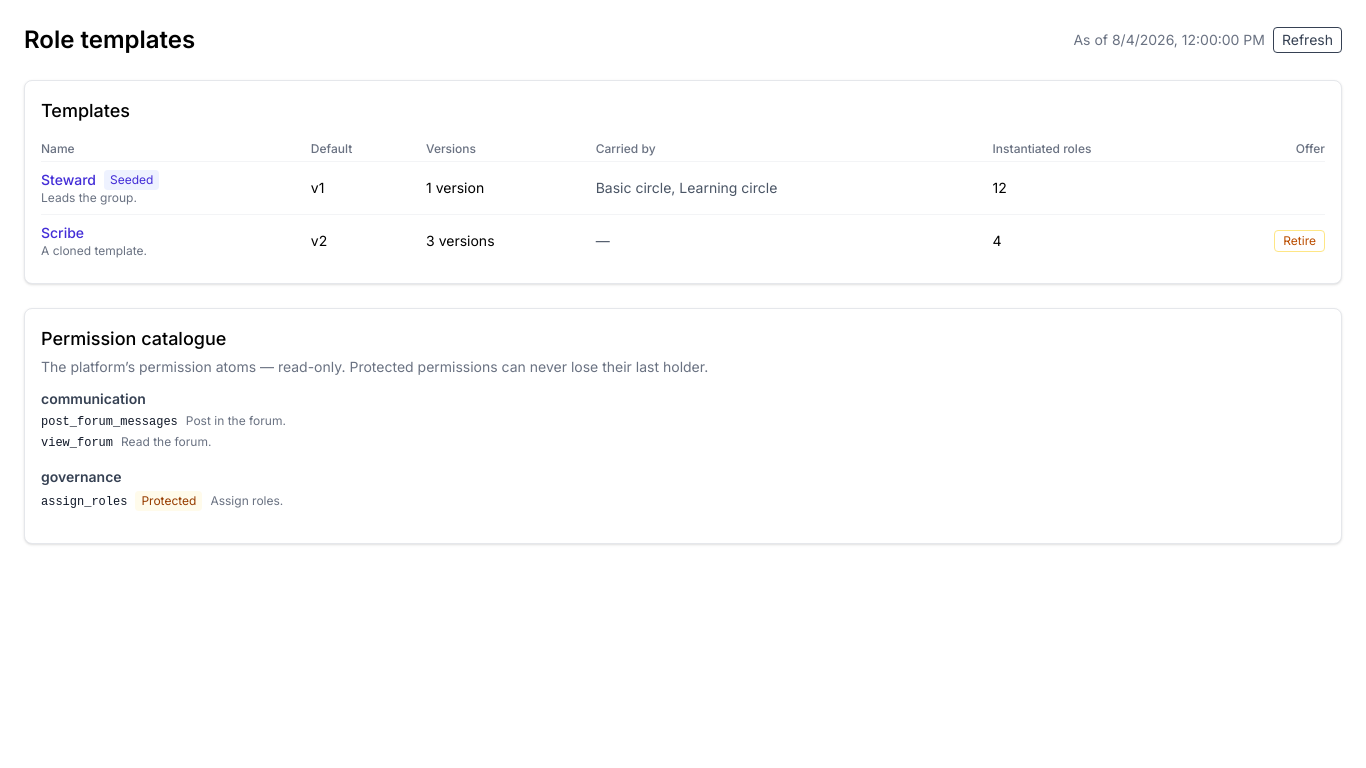
Test: AdminRolesView — retired collapse (FEAT-H045 STORY-1) › moves a template between the sections on a fresh read, with no manual refresh
expect the link "Steward" is shown: met, box top-left (41, 170), bottom-right (96, 190)
Click the button "Refresh": (1308, 40) top-left (1273, 27), bottom-right (1342, 53)
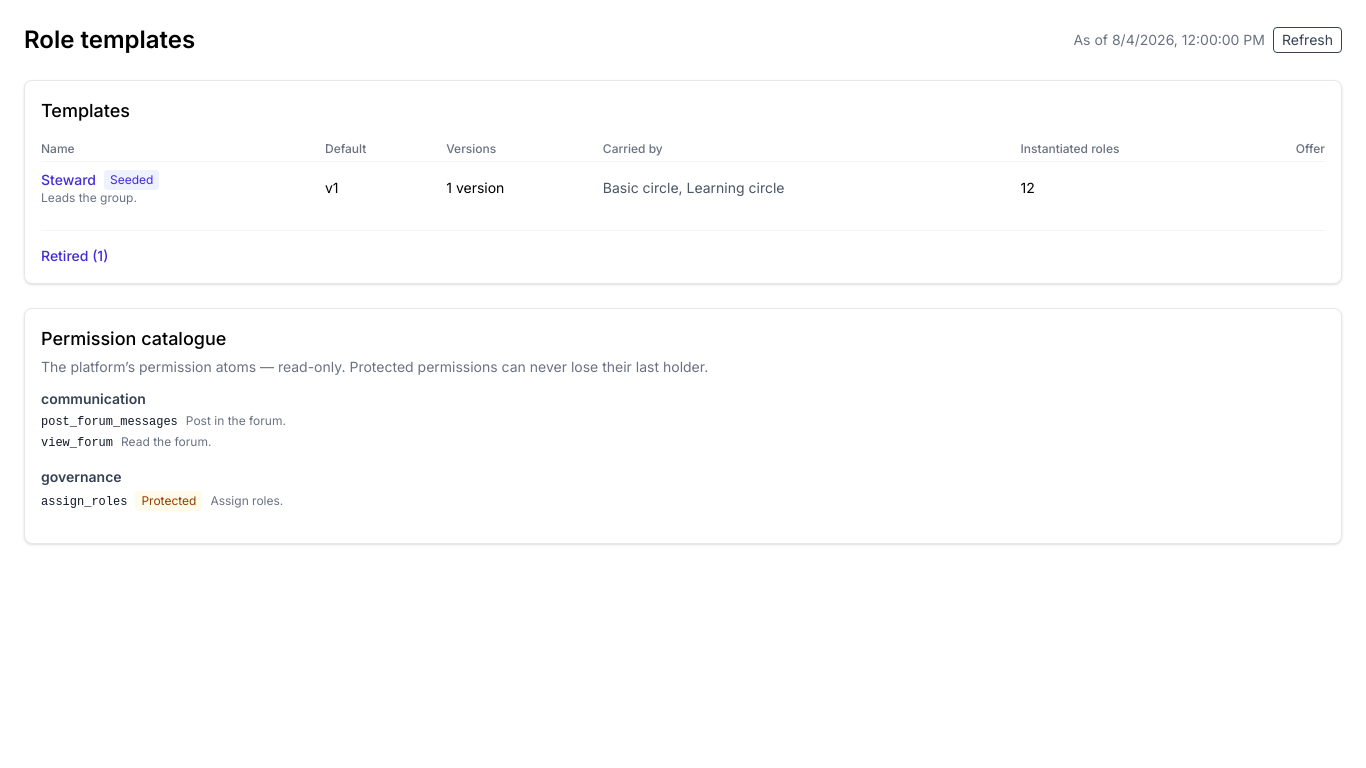
expect the button with test id "retired-templates-toggle" reads "Retired (1)": met, box top-left (41, 246), bottom-right (108, 266)
